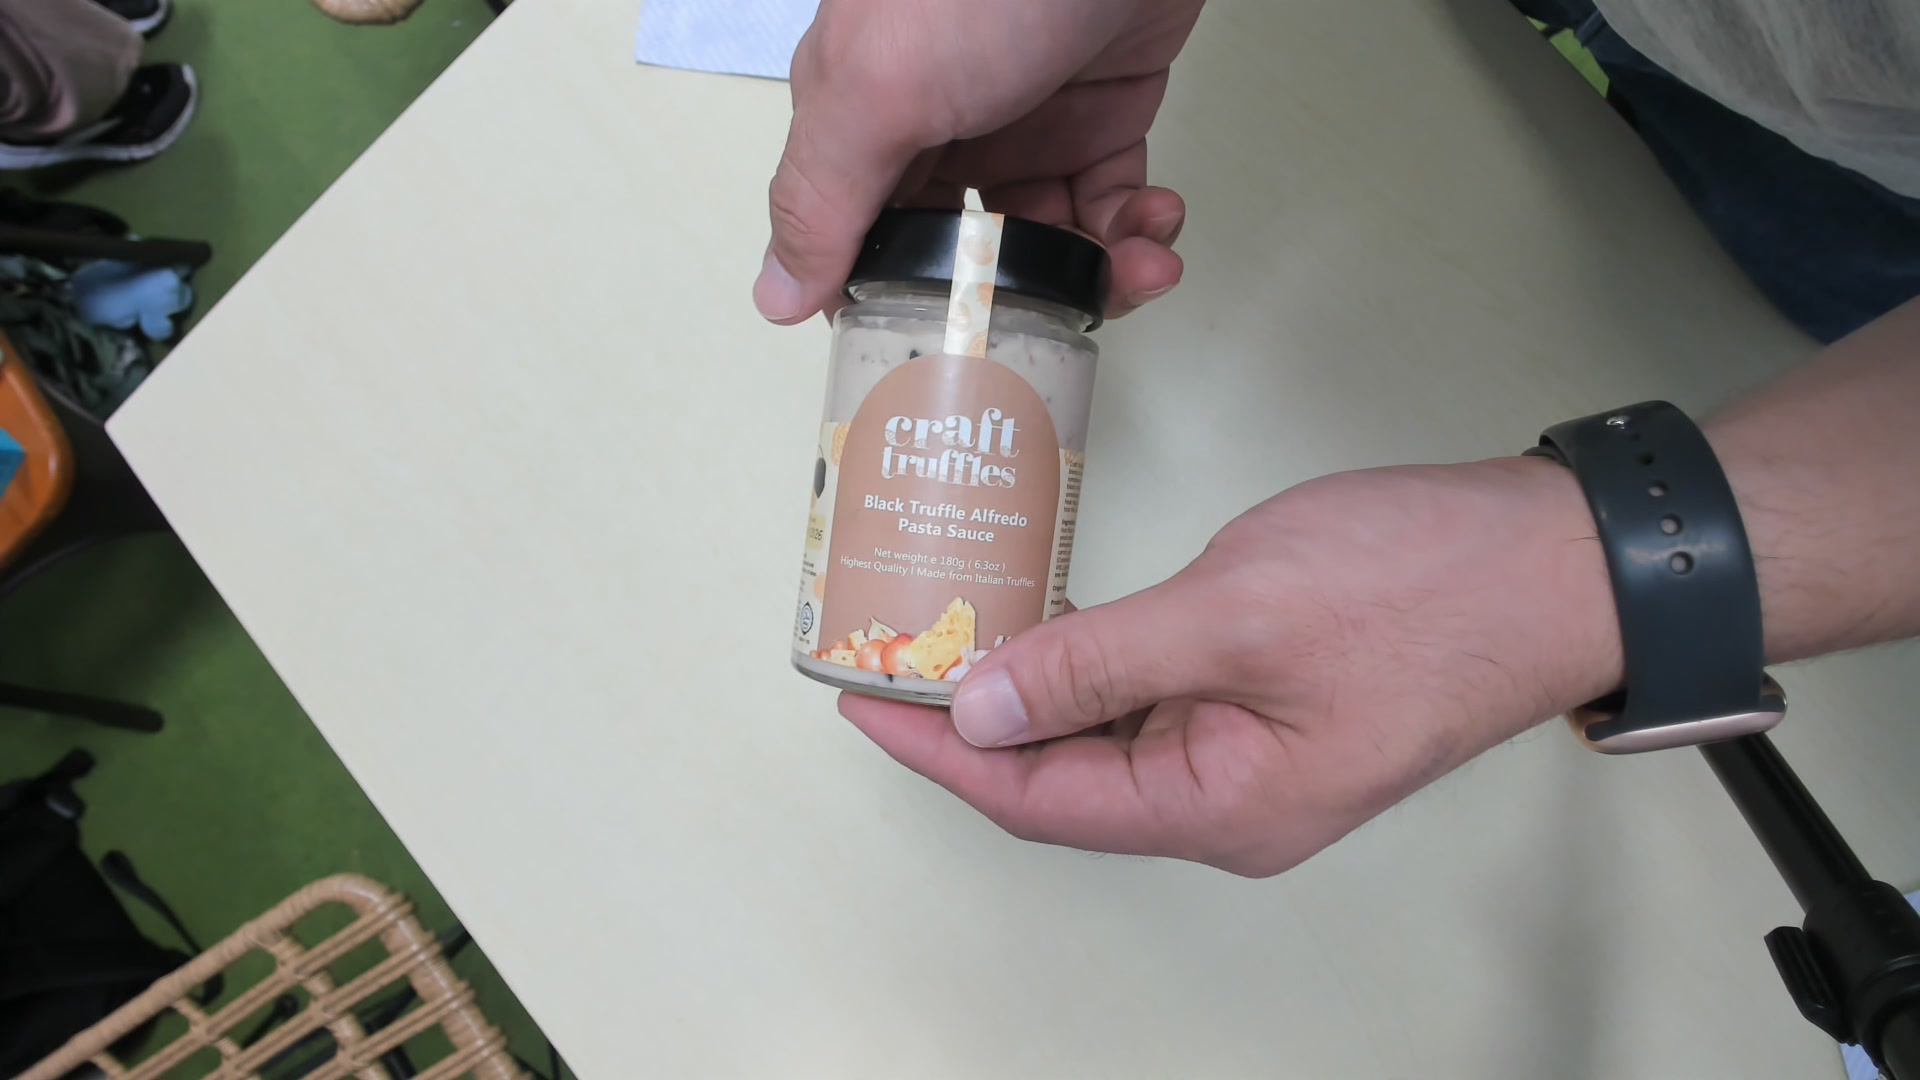PastaSauce_100-199g_Halal_NonHealthy: (796, 214, 1109, 716)
